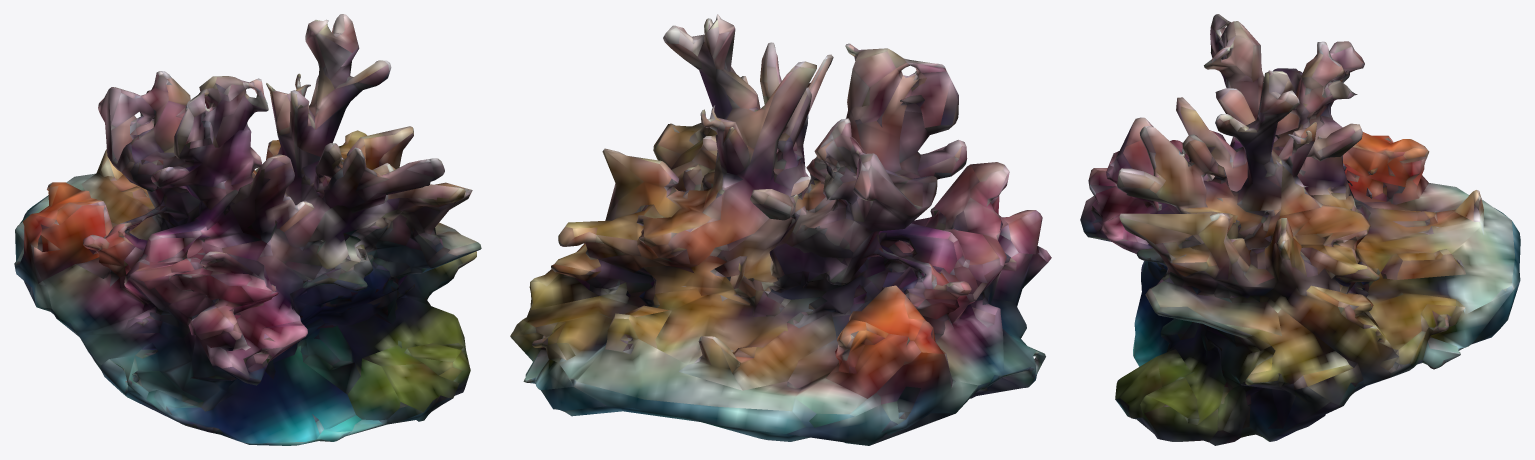
Rendered from runtime-coral-cluster.glb.
3 renders of one model, left to right at view 1: azimuth 30°, elevation 25°; view 2: azimuth 150°, elevation 25°; view 3: azimuth 270°, elevation 25°, orthographic. The views are drawn at different scales.
Visible parts, largest first — view 1: Object_4; view 2: Object_4; view 3: Object_4.
Boxes of the visible parts, box(x1,y1,x2,y2) form: Object_4: box(14, 14, 481, 445); Object_4: box(510, 14, 1051, 445); Object_4: box(1080, 14, 1520, 445).
Size of the model in its own units: 1.57 by 1.36 by 1.6.
Materials: 1 (1 with a texture image).
